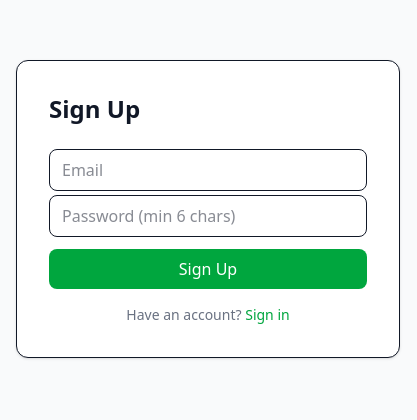
Test case: Signup › shows strong for complex password
The image size is (417, 420).
Type "Str0ng!Pass!" into the password field with placeholder "Password (min 6 chars)" at {"x": 208, "y": 216}, box [49,195,367,237]
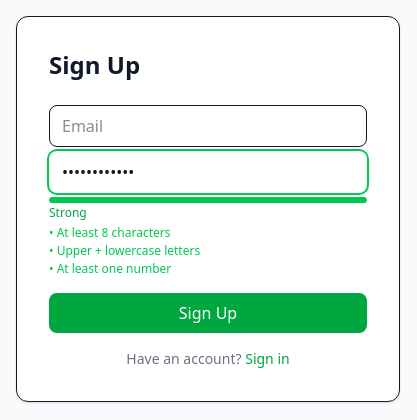
Result: the text "Strong" is shown at [49,204,87,221]
